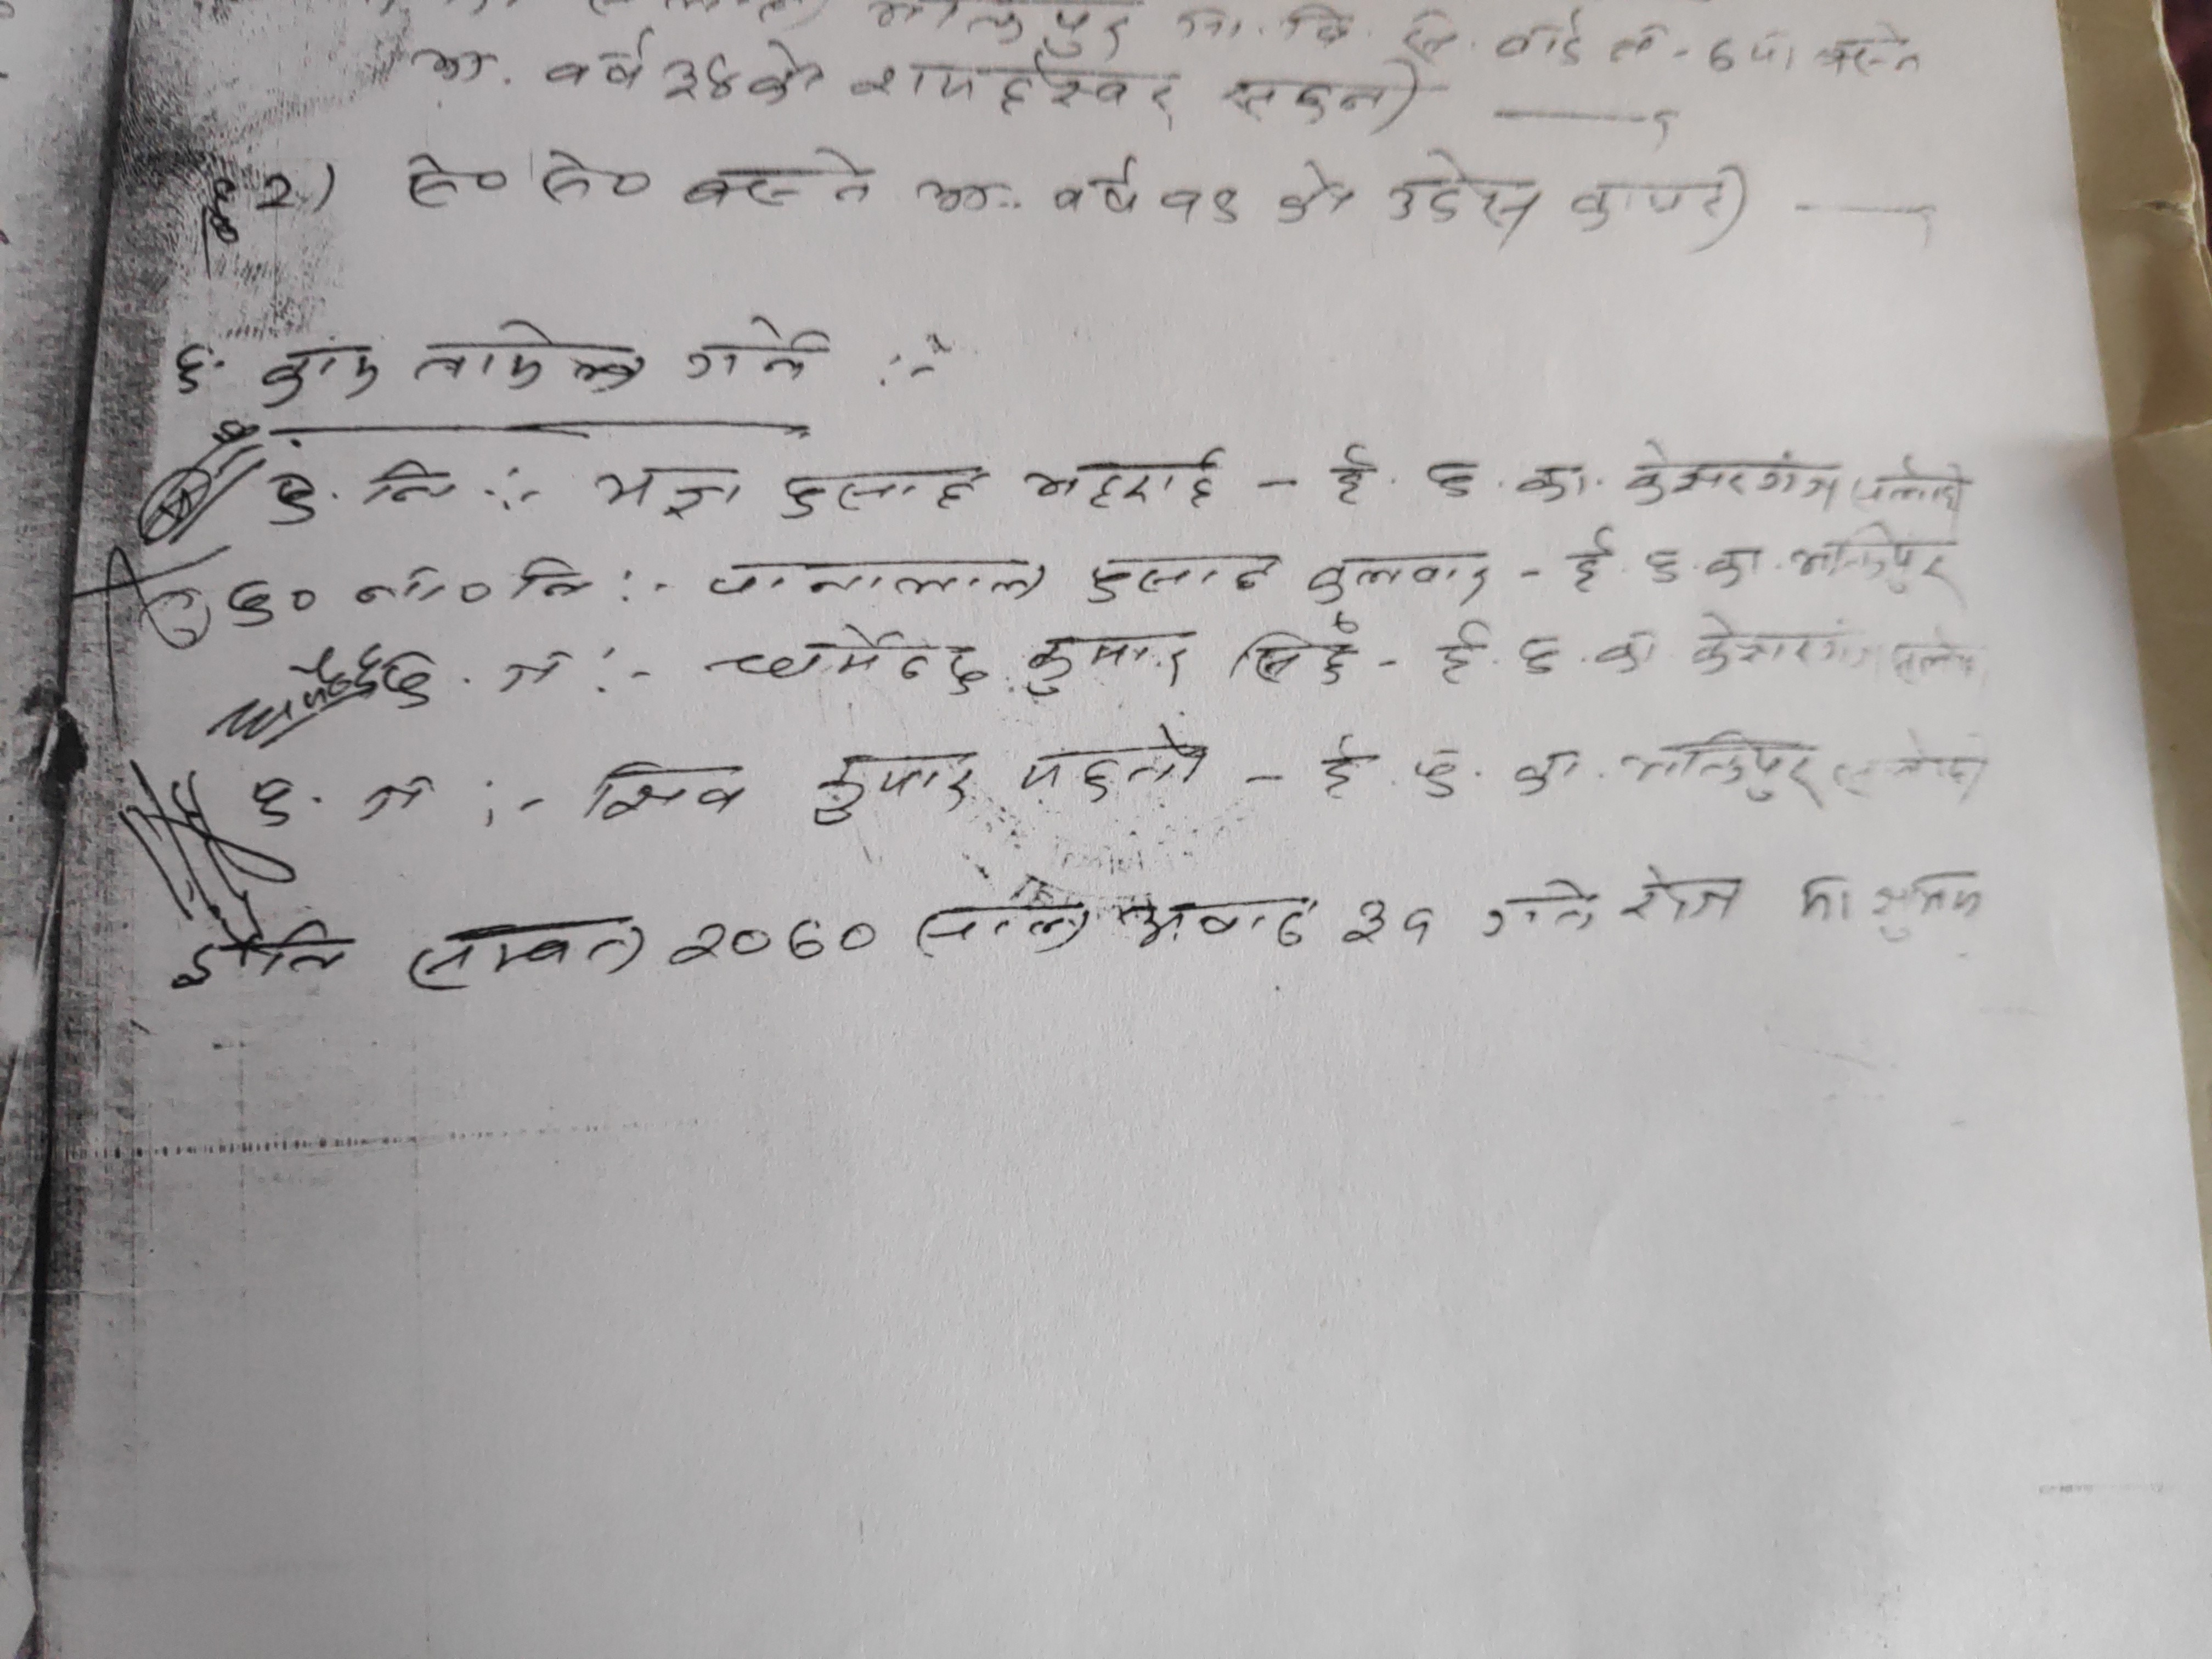text: (846, 51, 1183, 122), (1315, 730, 1592, 807), (718, 622, 988, 701), (411, 317, 648, 404), (406, 913, 651, 997), (1379, 143, 1555, 249), (1622, 720, 1827, 810), (395, 143, 657, 213), (1015, 718, 1205, 814), (1569, 159, 1754, 254), (1439, 617, 1660, 695), (1625, 437, 1838, 518), (1329, 444, 1597, 507), (1224, 56, 1428, 138), (704, 558, 1045, 606), (1789, 518, 1968, 610), (1794, 859, 1987, 945), (678, 146, 881, 220), (775, 457, 986, 526), (1562, 528, 1764, 599), (1693, 603, 1869, 685), (813, 744, 975, 833), (165, 918, 357, 993), (1111, 892, 1322, 958), (665, 913, 881, 976), (1028, 446, 1221, 514), (909, 894, 1096, 964), (662, 31, 824, 110), (1021, 633, 1191, 701), (587, 756, 751, 826), (585, 460, 747, 530), (686, 312, 829, 390), (1301, 549, 1489, 608), (254, 342, 383, 423), (1083, 554, 1282, 605), (1618, 861, 1740, 927), (1479, 875, 1597, 943), (543, 24, 653, 98), (1233, 629, 1359, 690), (1049, 148, 1151, 221), (1851, 455, 1973, 511), (1271, 155, 1357, 230), (1338, 892, 1444, 951), (1162, 166, 1247, 235), (916, 173, 1010, 218), (415, 44, 496, 85)
